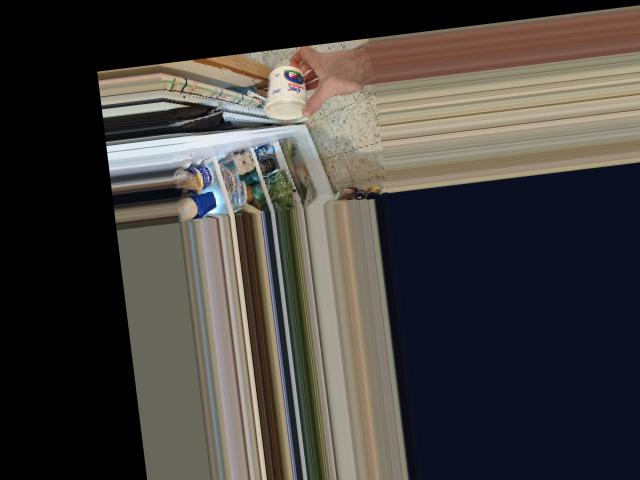cotage: (258, 61, 316, 123)
